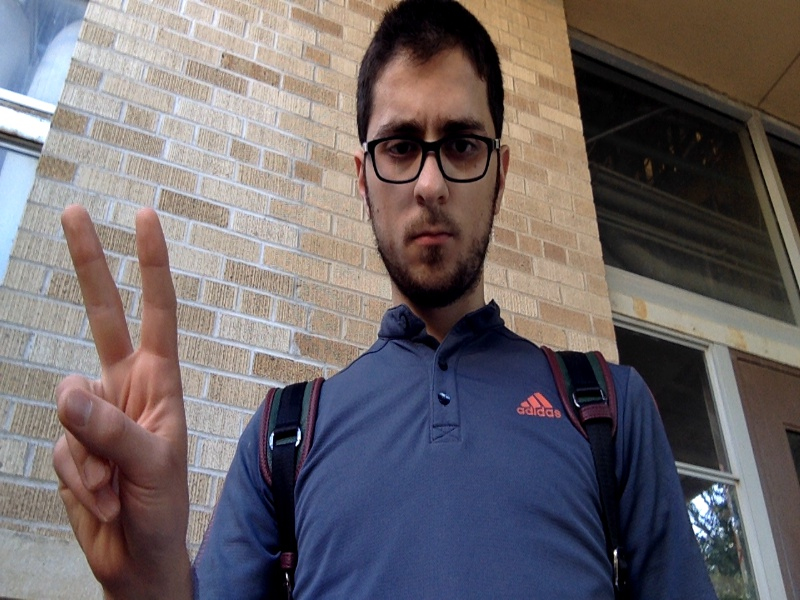2-hand: (55, 204, 191, 588)
